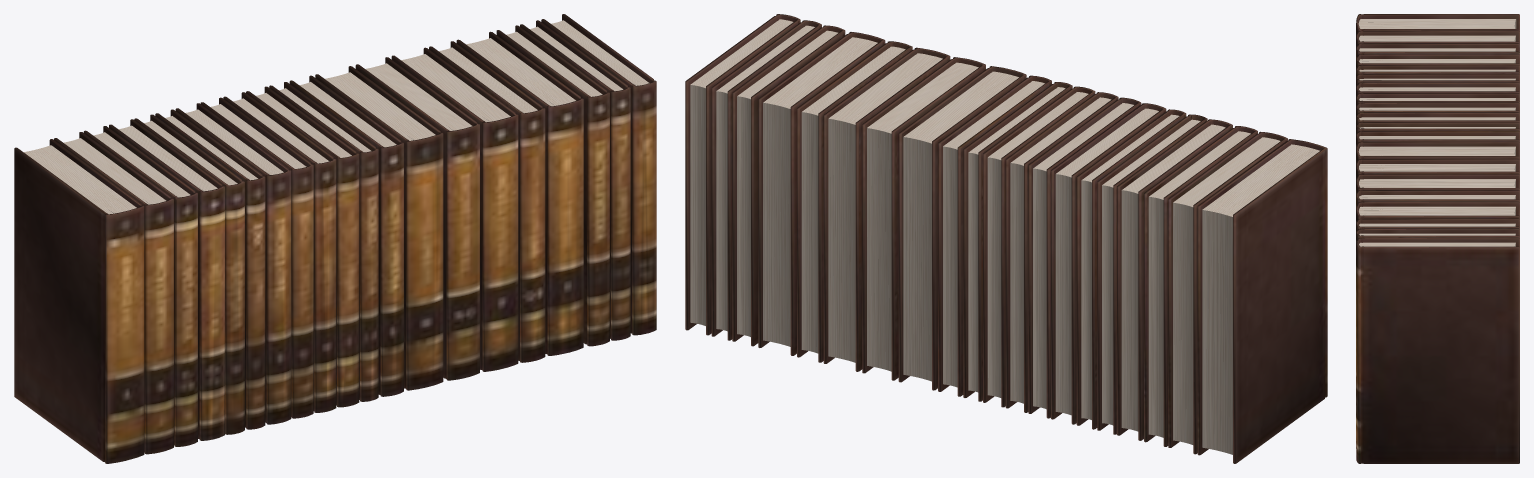
Rendered from books.glb.
3 renders of one model, left to right at view 1: azimuth 30°, elevation 25°; view 2: azimuth 150°, elevation 25°; view 3: azimuth 270°, elevation 25°, orthographic. The views are drawn at different scales.
Visible parts, largest first — view 1: book_encyclopedia_set_01_book01, book_encyclopedia_set_01_book13, book_encyclopedia_set_01_book15, book_encyclopedia_set_01_book17, book_encyclopedia_set_01_book14, book_encyclopedia_set_01_book02, book_encyclopedia_set_01_book16, book_encyclopedia_set_01_book04, book_encyclopedia_set_01_book18, book_encyclopedia_set_01_book20, book_encyclopedia_set_01_book07, book_encyclopedia_set_01_book12 (+8 smaller); view 2: book_encyclopedia_set_01_book01, book_encyclopedia_set_01_book13, book_encyclopedia_set_01_book15, book_encyclopedia_set_01_book17, book_encyclopedia_set_01_book14, book_encyclopedia_set_01_book02, book_encyclopedia_set_01_book04, book_encyclopedia_set_01_book16, book_encyclopedia_set_01_book18, book_encyclopedia_set_01_book20, book_encyclopedia_set_01_book07, book_encyclopedia_set_01_book12 (+8 smaller); view 3: book_encyclopedia_set_01_book20, book_encyclopedia_set_01_book01, book_encyclopedia_set_01_book17, book_encyclopedia_set_01_book13, book_encyclopedia_set_01_book14, book_encyclopedia_set_01_book15, book_encyclopedia_set_01_book02, book_encyclopedia_set_01_book16, book_encyclopedia_set_01_book03, book_encyclopedia_set_01_book12, book_encyclopedia_set_01_book04, book_encyclopedia_set_01_book07 (+8 smaller).
Boxes of the visible parts, x1=… form: book_encyclopedia_set_01_book01: x1=14, y1=139, x2=144, y2=463; book_encyclopedia_set_01_book13: x1=315, y1=66, x2=443, y2=390; book_encyclopedia_set_01_book15: x1=391, y1=47, x2=518, y2=371; book_encyclopedia_set_01_book17: x1=456, y1=31, x2=583, y2=355; book_encyclopedia_set_01_book14: x1=355, y1=57, x2=479, y2=380; book_encyclopedia_set_01_book02: x1=54, y1=132, x2=173, y2=454; book_encyclopedia_set_01_book16: x1=429, y1=41, x2=545, y2=362; book_encyclopedia_set_01_book04: x1=109, y1=119, x2=224, y2=440; book_encyclopedia_set_01_book18: x1=496, y1=25, x2=609, y2=346; book_encyclopedia_set_01_book20: x1=541, y1=14, x2=656, y2=335; book_encyclopedia_set_01_book07: x1=175, y1=103, x2=291, y2=424; book_encyclopedia_set_01_book12: x1=289, y1=75, x2=403, y2=396; book_encyclopedia_set_01_book01: x1=1197, y1=139, x2=1327, y2=463; book_encyclopedia_set_01_book13: x1=898, y1=66, x2=1026, y2=390; book_encyclopedia_set_01_book15: x1=823, y1=47, x2=950, y2=371; book_encyclopedia_set_01_book17: x1=758, y1=32, x2=885, y2=355; book_encyclopedia_set_01_book14: x1=862, y1=57, x2=985, y2=380; book_encyclopedia_set_01_book02: x1=1168, y1=131, x2=1287, y2=454; book_encyclopedia_set_01_book04: x1=1117, y1=119, x2=1232, y2=440; book_encyclopedia_set_01_book16: x1=797, y1=41, x2=912, y2=362; book_encyclopedia_set_01_book18: x1=732, y1=25, x2=845, y2=346; book_encyclopedia_set_01_book20: x1=685, y1=14, x2=800, y2=335; book_encyclopedia_set_01_book07: x1=1051, y1=103, x2=1166, y2=424; book_encyclopedia_set_01_book12: x1=938, y1=75, x2=1051, y2=396; book_encyclopedia_set_01_book20: x1=1356, y1=238, x2=1519, y2=463; book_encyclopedia_set_01_book01: x1=1356, y1=14, x2=1519, y2=59; book_encyclopedia_set_01_book17: x1=1356, y1=202, x2=1519, y2=231; book_encyclopedia_set_01_book13: x1=1356, y1=142, x2=1519, y2=162; book_encyclopedia_set_01_book14: x1=1356, y1=159, x2=1519, y2=204; book_encyclopedia_set_01_book15: x1=1356, y1=174, x2=1519, y2=193; book_encyclopedia_set_01_book02: x1=1356, y1=30, x2=1519, y2=50; book_encyclopedia_set_01_book16: x1=1356, y1=190, x2=1519, y2=206; book_encyclopedia_set_01_book03: x1=1356, y1=43, x2=1519, y2=56; book_encyclopedia_set_01_book12: x1=1356, y1=131, x2=1519, y2=208; book_encyclopedia_set_01_book04: x1=1356, y1=54, x2=1519, y2=77; book_encyclopedia_set_01_book07: x1=1356, y1=82, x2=1519, y2=96.
Size of the model in its own units: 0.5513 by 0.2374 by 0.1631.
Materials: 2 (2 with a texture image).
